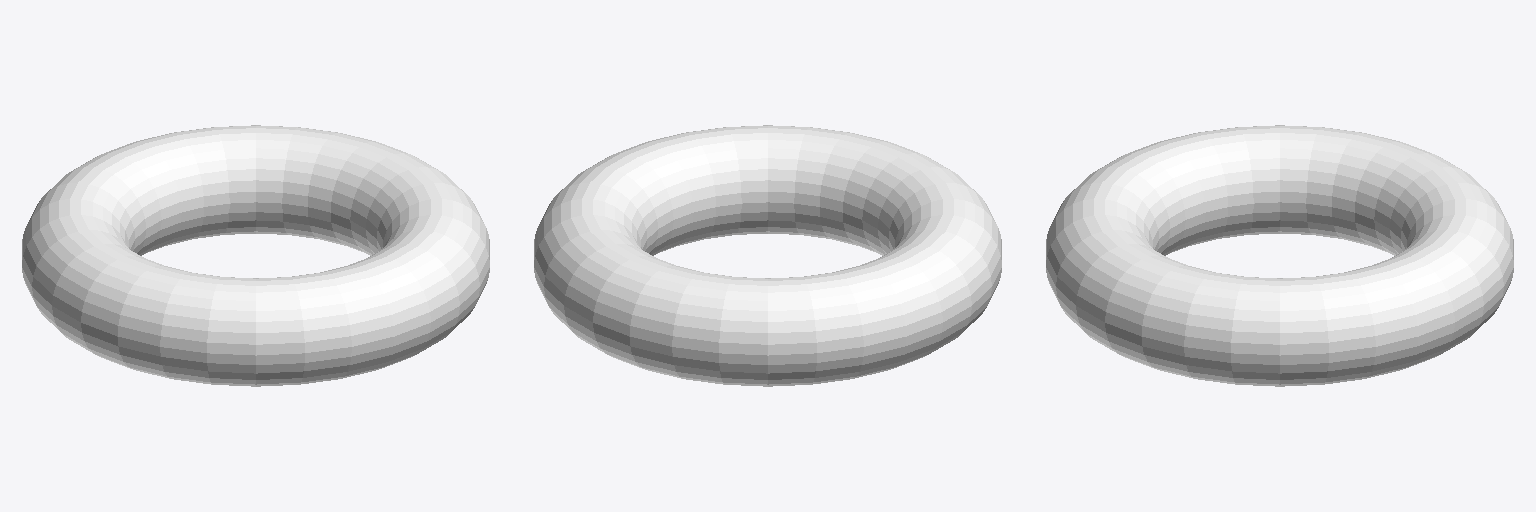
File: model.obj_enc.obj
3 views of the same model, side by side, from view 1: azimuth 30°, elevation 25°; view 2: azimuth 150°, elevation 25°; view 3: azimuth 270°, elevation 25° (orthographic).
Parts seen in each view (by area): view 1: Torus; view 2: Torus; view 3: Torus.
Part boxes in pixels (x1,y1,x2,y2): Torus: (22, 125, 489, 386); Torus: (534, 125, 1001, 386); Torus: (1046, 125, 1513, 386).
Bounding box in the file's own units: 2.6 × 0.5967 × 2.59.